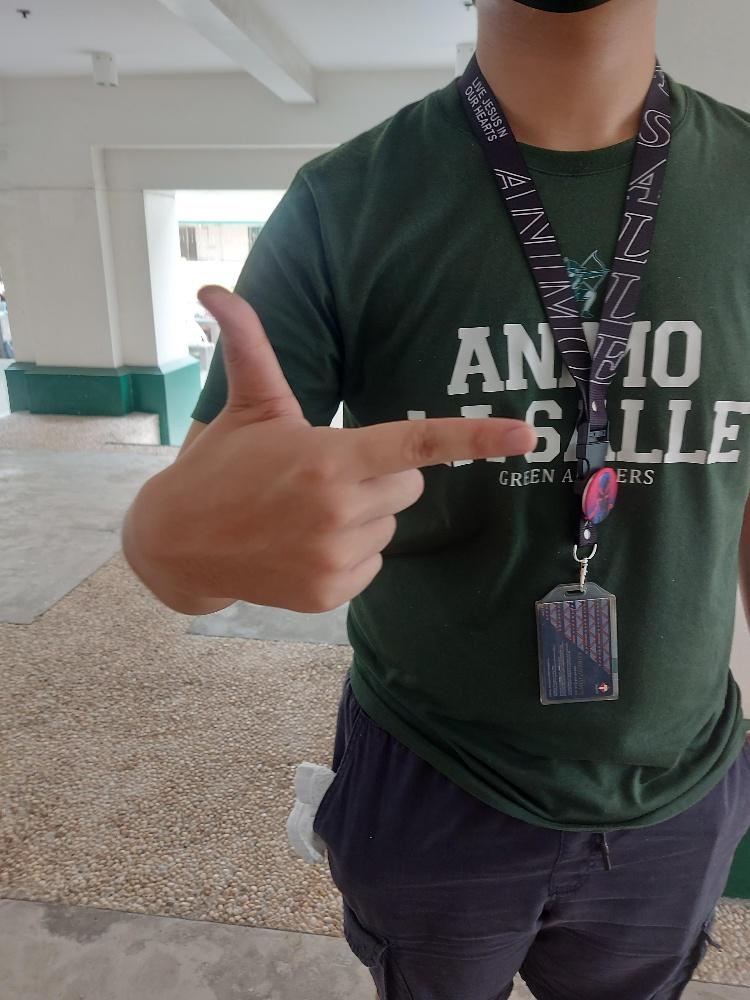g: (193, 278, 537, 615)
